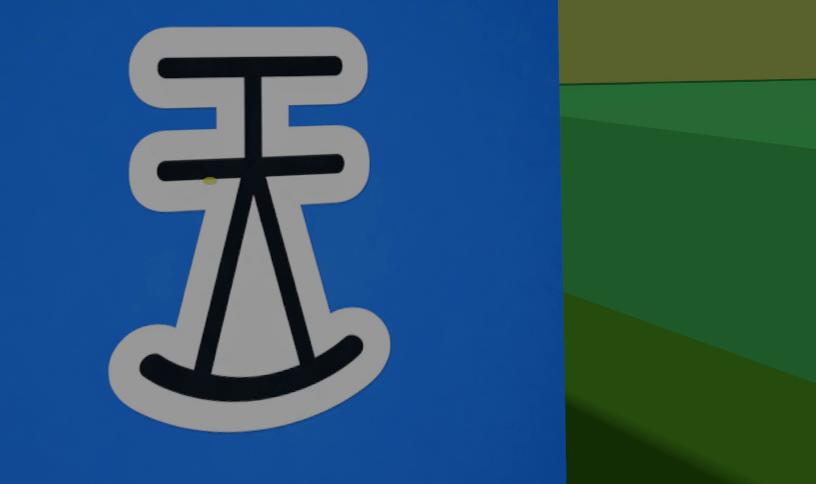KFS_REAL: (0, 0, 565, 483), (110, 27, 389, 431)
